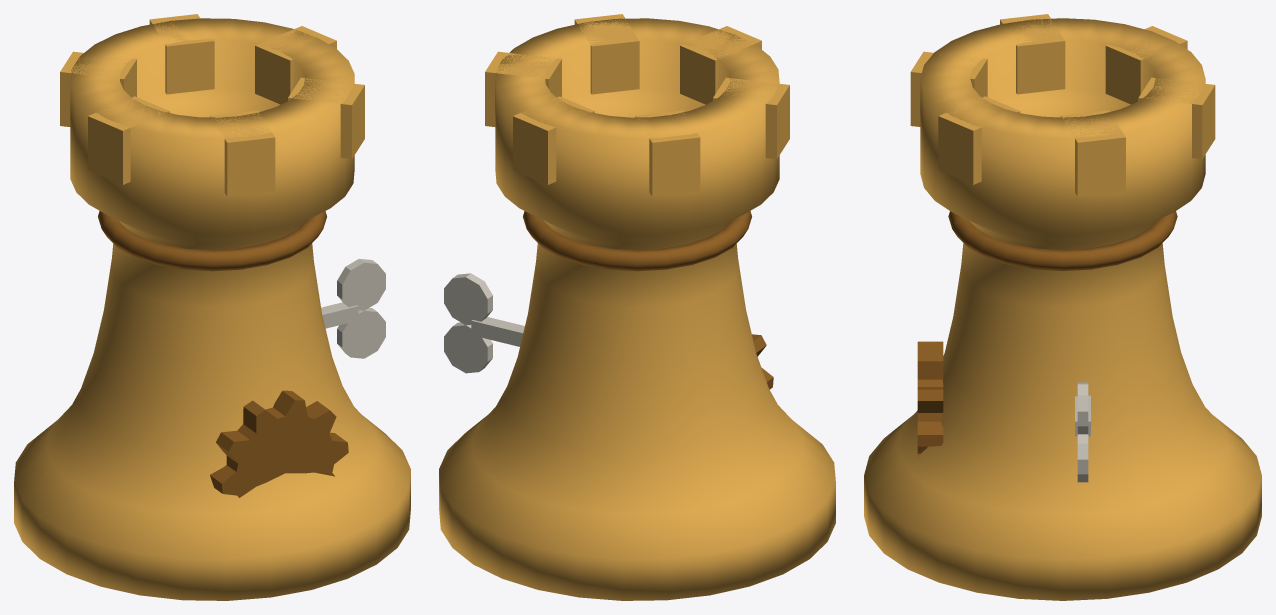
The model's file is rook.glb.
The picture shows the model from 3 angles, left to right: view 1: azimuth 30°, elevation 25°; view 2: azimuth 150°, elevation 25°; view 3: azimuth 270°, elevation 25°; orthographic projection.
Parts seen in each view (by area): view 1: rook_body, rook_merlons, rook_gear, rook_trim, rook_key; view 2: rook_body, rook_merlons, rook_trim, rook_key; view 3: rook_body, rook_merlons, rook_trim, rook_gear, rook_key.
Boxes of the visible parts, left/top/right/bottom form: rook_body: left=14, top=18, right=410, bottom=600; rook_merlons: left=60, top=14, right=364, bottom=196; rook_gear: left=210, top=390, right=348, bottom=497; rook_trim: left=98, top=211, right=326, bottom=271; rook_key: left=321, top=259, right=385, bottom=358; rook_body: left=439, top=18, right=835, bottom=600; rook_merlons: left=485, top=14, right=789, bottom=196; rook_trim: left=523, top=211, right=751, bottom=271; rook_key: left=444, top=273, right=524, bottom=373; rook_body: left=864, top=18, right=1261, bottom=600; rook_merlons: left=910, top=14, right=1215, bottom=196; rook_trim: left=948, top=211, right=1177, bottom=270; rook_gear: left=917, top=341, right=943, bottom=458; rook_key: left=1075, top=382, right=1090, bottom=482.
Size of the model in its own units: 0.615 by 0.73 by 0.6.
